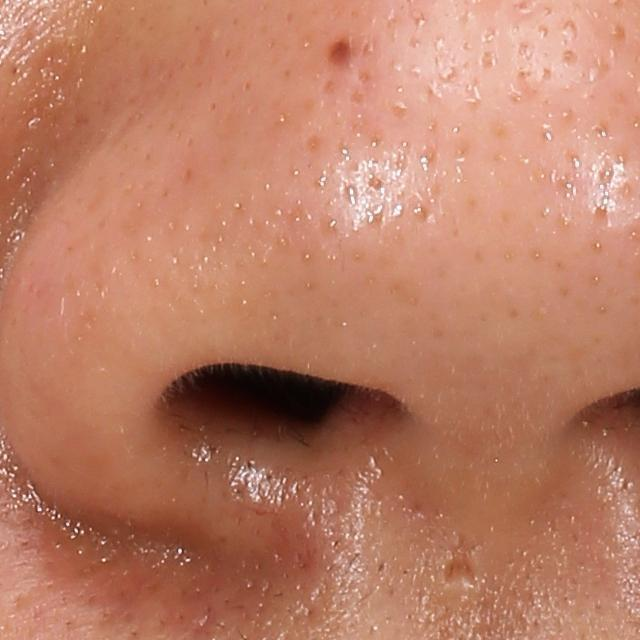atrophic_scar: (440, 533, 486, 594)
nevus: (323, 33, 361, 72)
